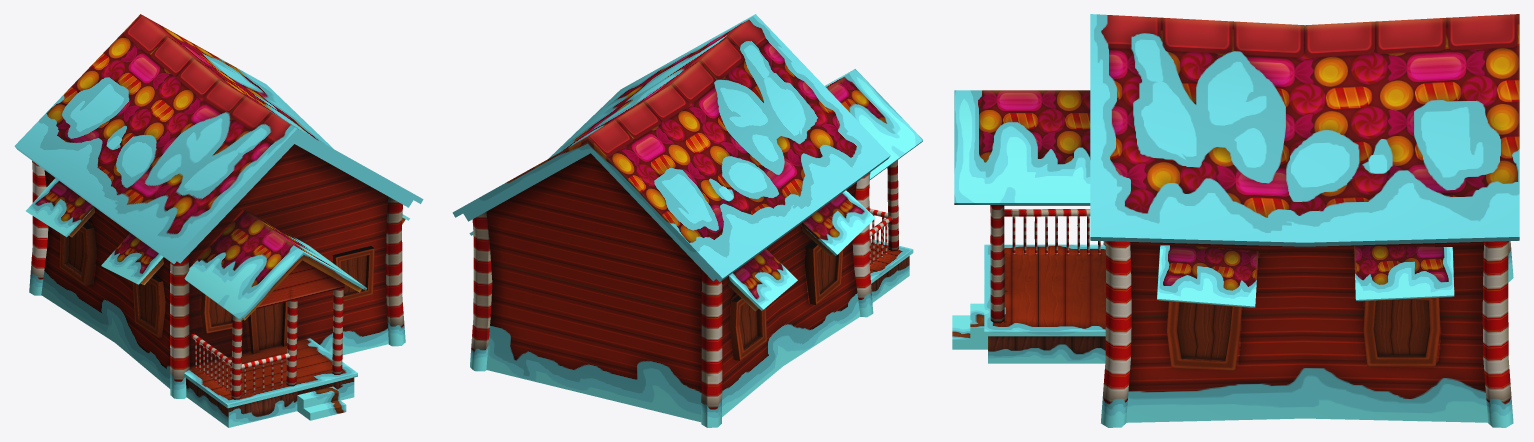
The model's file is House8.FBX.
The picture shows the model from 3 angles, left to right: view 1: azimuth 30°, elevation 25°; view 2: azimuth 150°, elevation 25°; view 3: azimuth 270°, elevation 25°; orthographic projection. The views are drawn at different scales.
Parts seen in each view (by area): view 1: House8; view 2: House8; view 3: House8.
Part boxes in pixels (<box>): House8: <box>14,14,423,427</box>; House8: <box>452,14,923,427</box>; House8: <box>952,14,1519,427</box>.
Size of the model in its own units: 176 by 149 by 228.
Materials: 1 (1 with a texture image).
